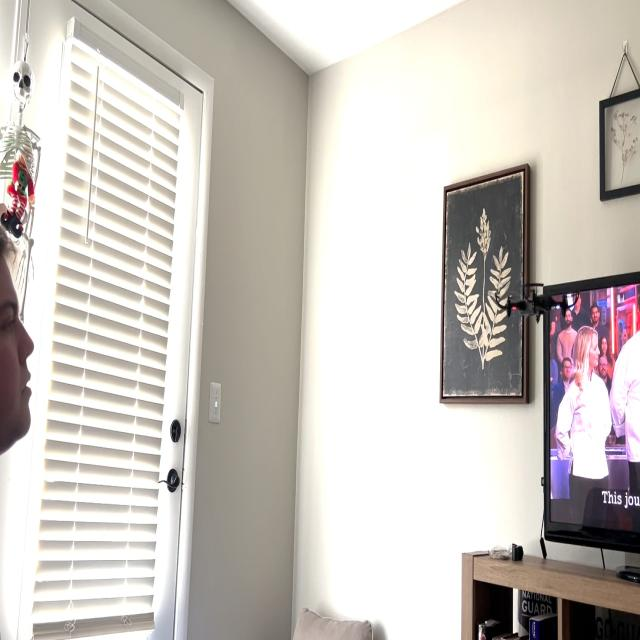drone: (488, 267, 578, 342)
